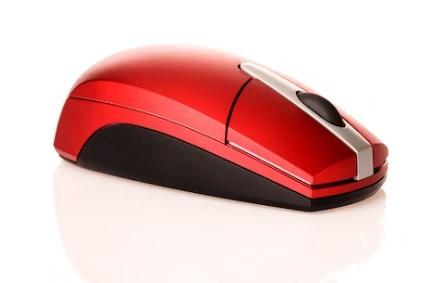computer mouse: (53, 42, 389, 213)
